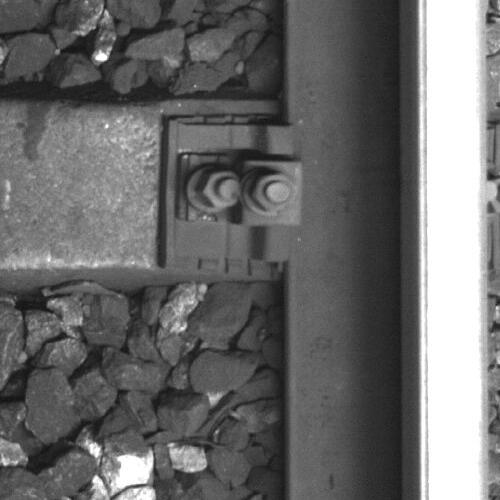kb: (171, 125, 306, 263)
nut: (250, 172, 299, 213), (196, 169, 240, 210)
rail: (418, 1, 488, 500)
tie_concr: (1, 103, 280, 266)
